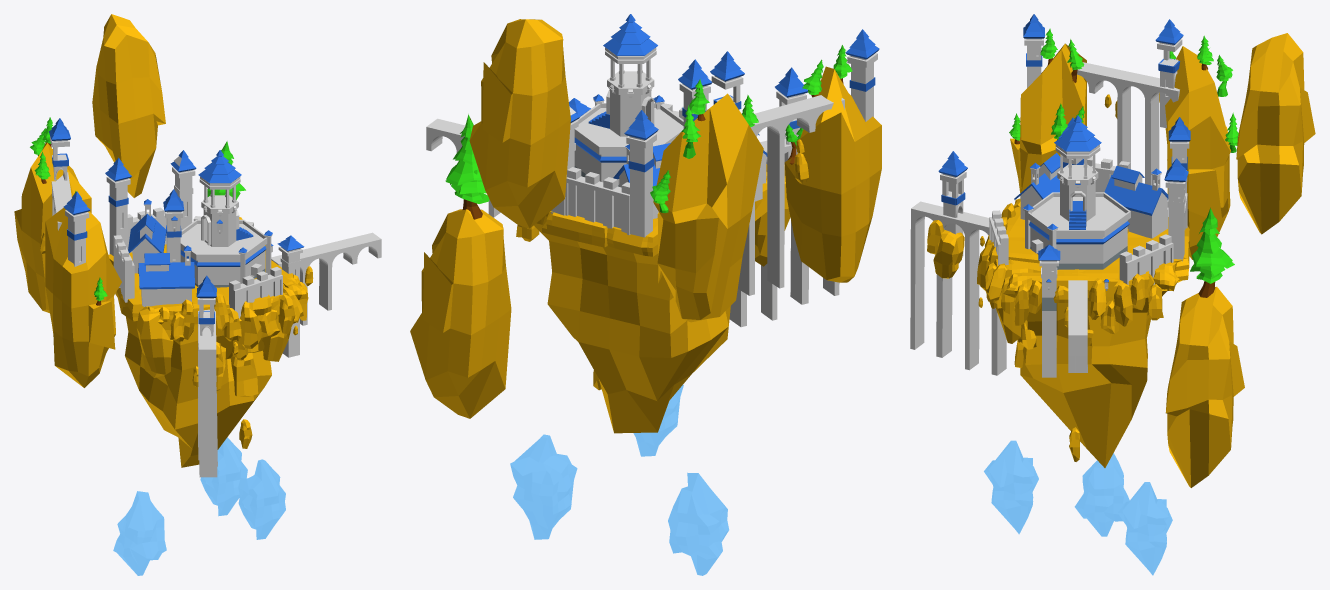
Rendered from paisaje.glb.
The picture shows the model from 3 angles, left to right: view 1: azimuth 30°, elevation 25°; view 2: azimuth 150°, elevation 25°; view 3: azimuth 270°, elevation 25°; orthographic projection. The views are drawn at different scales.
Parts seen in each view (by area): view 1: Cube.047, Cube.061, mainFloor, Cube.009, Cylinder.002, Cube.050, Rock3, Cube.011, Rock1, Cube.007, Rock2, Cube.088 (+20 smaller); view 2: mainFloor, Cube.009, Cube.061, Cube.048, Cube.047, Cube.052, Rock2, Rock3, Cylinder.002, Cube.040, Cube.044, Cube.063 (+11 smaller); view 3: mainFloor, Cube.061, Cube.048, Cube.009, Cube.050, Cube.047, Cylinder.002, Cube.052, Rock2, Rock1, Rock3, Cube.063 (+22 smaller).
Part boxes in pixels (x1=…): Cube.047: x1=45, y1=207, x2=121, y2=387; Cube.061: x1=92, y1=14, x2=165, y2=197; mainFloor: x1=125, y1=315, x2=271, y2=467; Cube.009: x1=14, y1=142, x2=91, y2=313; Cylinder.002: x1=180, y1=219, x2=267, y2=287; Cube.050: x1=198, y1=309, x2=217, y2=477; Rock3: x1=113, y1=491, x2=166, y2=575; Cube.011: x1=138, y1=245, x2=194, y2=306; Rock1: x1=238, y1=459, x2=285, y2=539; Cube.007: x1=271, y1=232, x2=381, y2=325; Rock2: x1=200, y1=437, x2=247, y2=516; Cube.088: x1=136, y1=306, x2=173, y2=377; mainFloor: x1=534, y1=223, x2=730, y2=433; Cube.009: x1=653, y1=93, x2=763, y2=322; Cube.061: x1=469, y1=19, x2=570, y2=228; Cube.048: x1=410, y1=209, x2=511, y2=418; Cube.047: x1=784, y1=66, x2=881, y2=282; Cube.052: x1=738, y1=95, x2=844, y2=295; Rock2: x1=510, y1=434, x2=577, y2=539; Rock3: x1=668, y1=472, x2=729, y2=575; Cylinder.002: x1=574, y1=103, x2=683, y2=186; Cube.040: x1=565, y1=167, x2=630, y2=235; Cube.044: x1=624, y1=110, x2=658, y2=237; Cube.063: x1=536, y1=211, x2=658, y2=256; mainFloor: x1=1020, y1=289, x2=1167, y2=467; Cube.061: x1=1236, y1=33, x2=1315, y2=234; Cube.048: x1=1165, y1=286, x2=1244, y2=487; Cube.009: x1=1159, y1=46, x2=1230, y2=259; Cube.050: x1=910, y1=201, x2=1006, y2=375; Cube.047: x1=1010, y1=43, x2=1086, y2=192; Cylinder.002: x1=1027, y1=192, x2=1130, y2=269; Cube.052: x1=1072, y1=62, x2=1179, y2=185; Rock2: x1=1117, y1=482, x2=1172, y2=575; Rock1: x1=984, y1=440, x2=1038, y2=534; Rock3: x1=1074, y1=453, x2=1129, y2=536; Cube.063: x1=1071, y1=217, x2=1189, y2=301.
Bounding box in the file's own units: 83.85 × 118 × 81.28.
